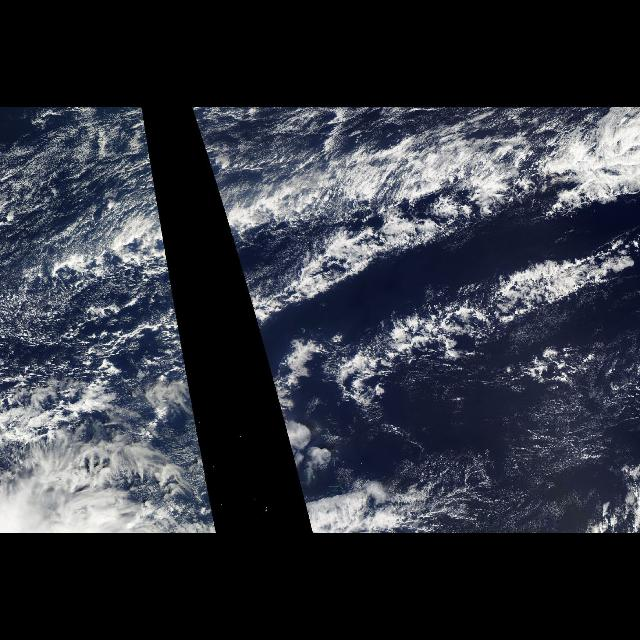Fish: (329, 220, 635, 400)
Sugar: (305, 233, 617, 423), (0, 107, 148, 221)
